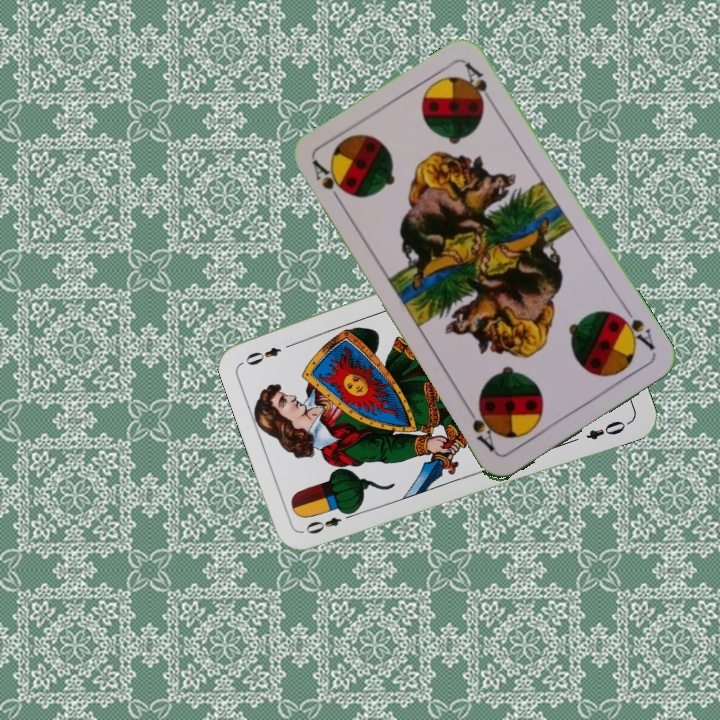EO: (301, 507, 358, 537)
SA: (612, 303, 658, 353), (308, 156, 347, 209)
